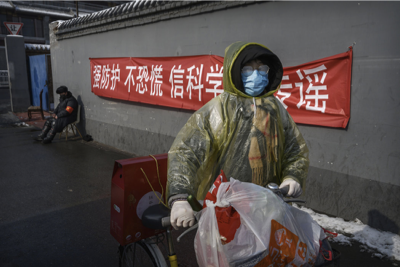with_mask: (241, 60, 271, 97)
